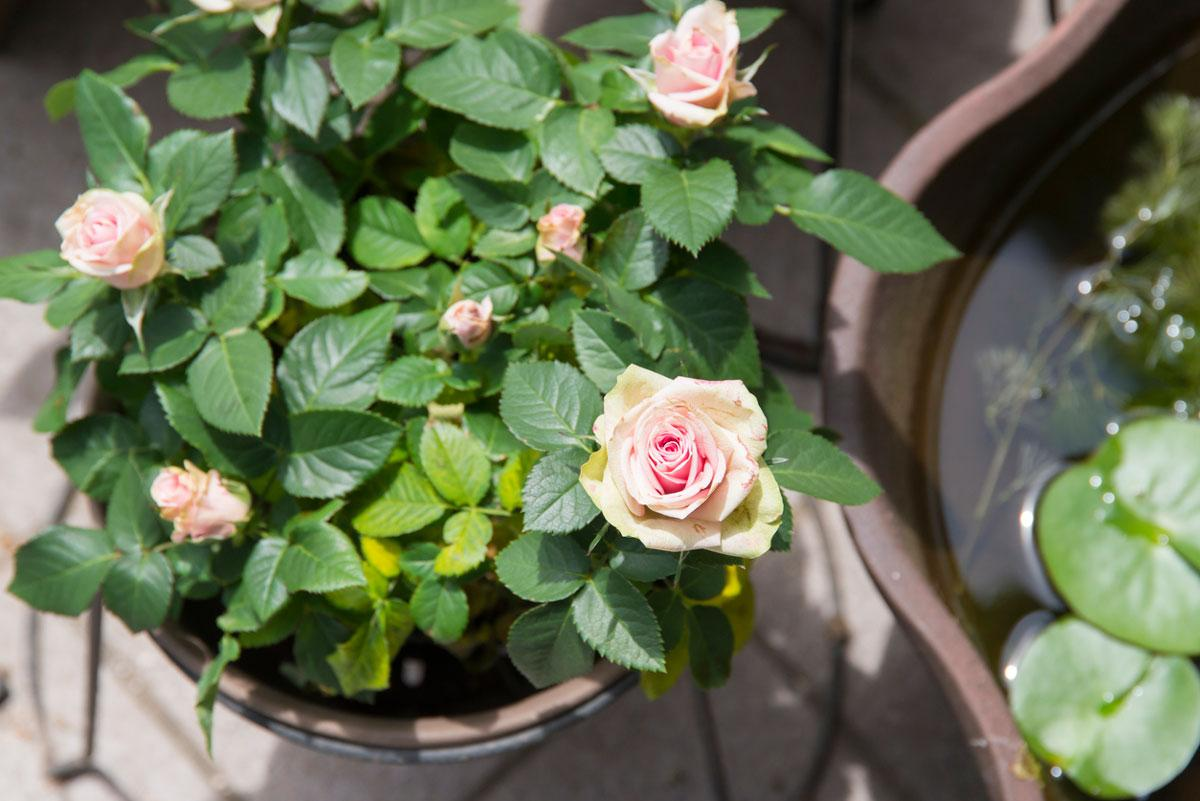Rose: (571, 339, 811, 591), (611, 0, 790, 142), (29, 179, 187, 292), (137, 449, 268, 559), (511, 167, 618, 289), (417, 265, 511, 371)
